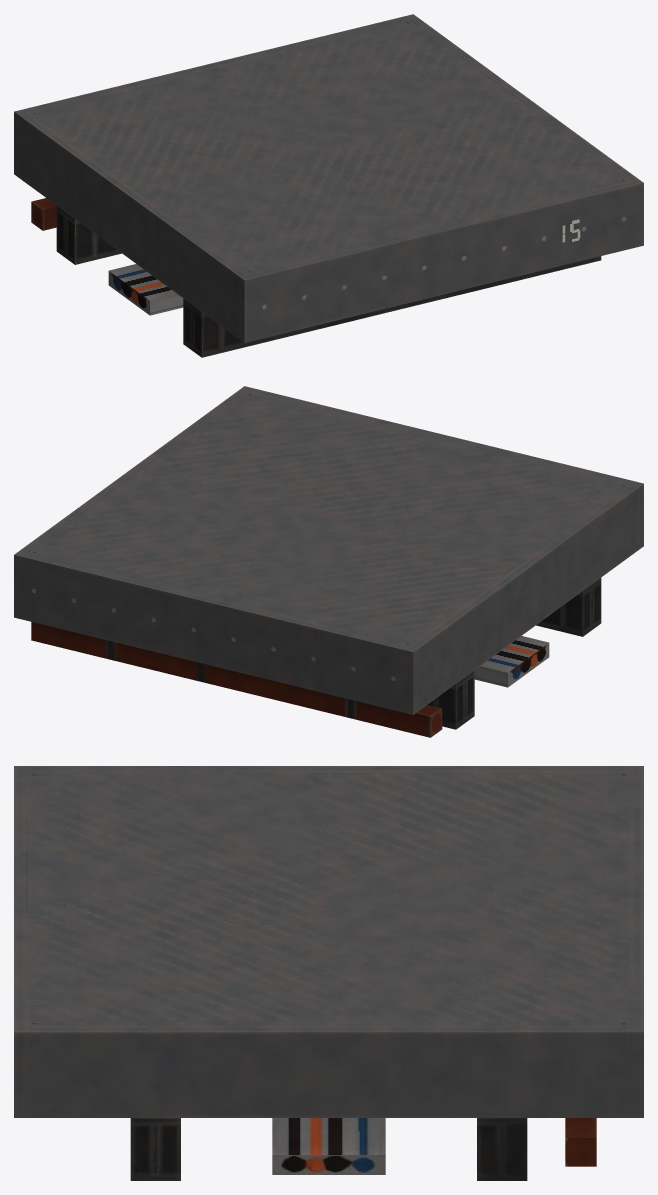
The model's file is deck_ceiling.glb.
3 views of the same model, one above another, from view 1: azimuth 30°, elevation 25°; view 2: azimuth 150°, elevation 25°; view 3: azimuth 270°, elevation 25° (orthographic). The views are drawn at different scales.
Parts seen in each view (by area): view 1: deck_ceiling; view 2: deck_ceiling; view 3: deck_ceiling.
Boxes of the visible parts, x1,y1,x2,y2 form: deck_ceiling: [14, 14, 643, 357]; deck_ceiling: [14, 386, 643, 737]; deck_ceiling: [14, 766, 643, 1180].
Size of the model in its own units: 2 by 0.52 by 2.
1 material, 1 textured.
